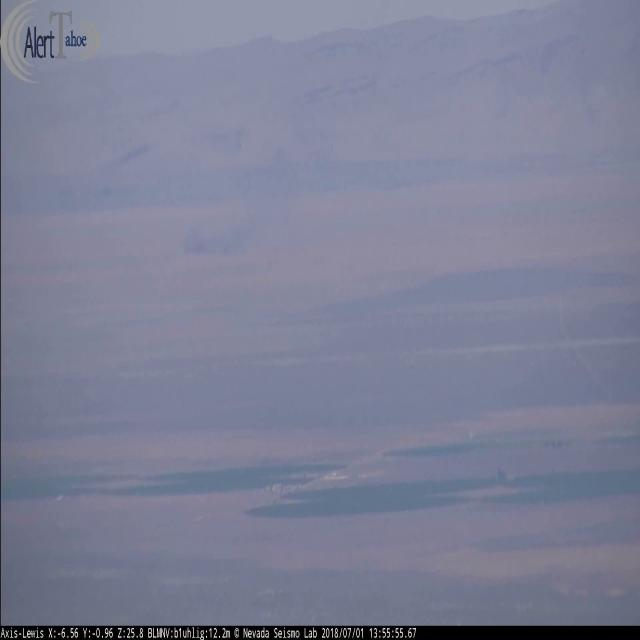smoke: (179, 205, 254, 258)
